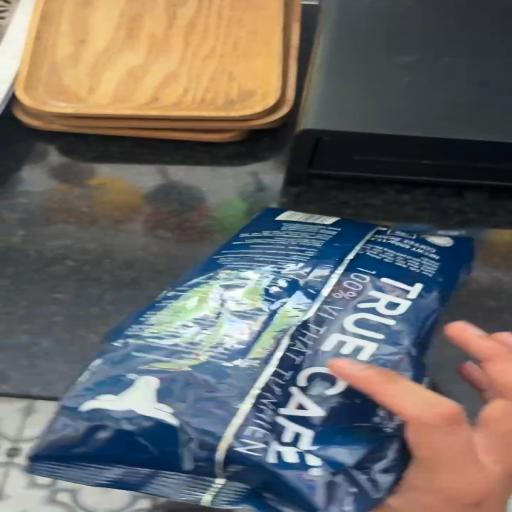cafe_hat: (27, 208, 473, 512)
